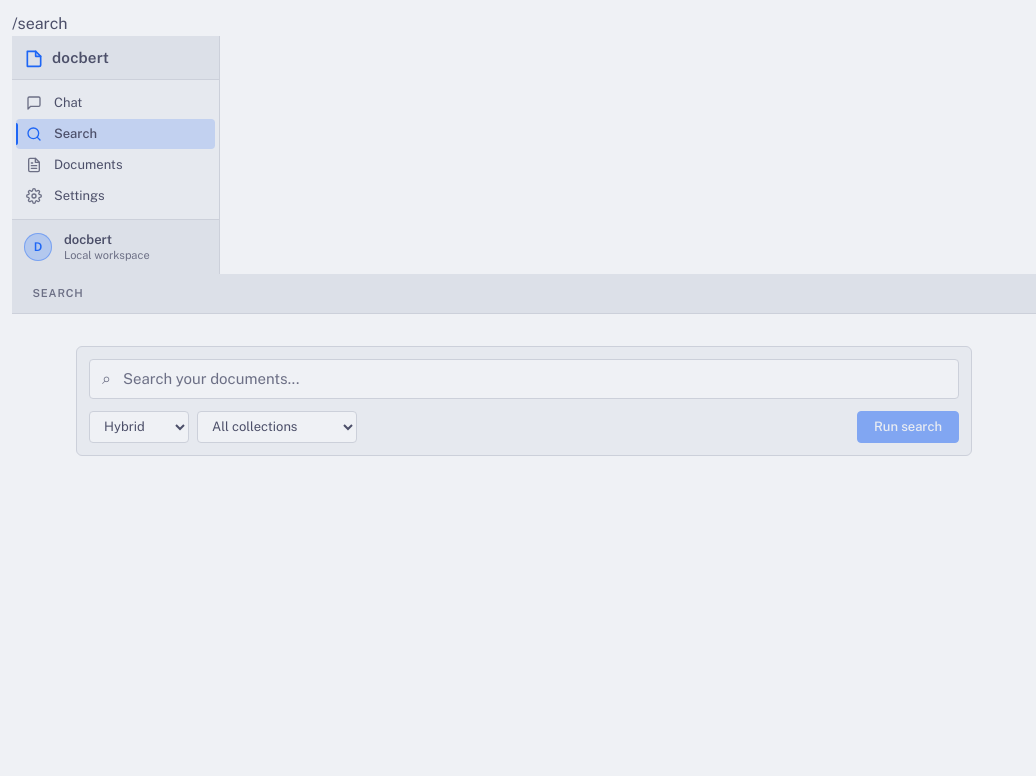
Scenario: Search page › ignores stale older responses when a newer search completes later
Type "rust" into the search field named "Query" at (534, 379), box [123,361,946,397]
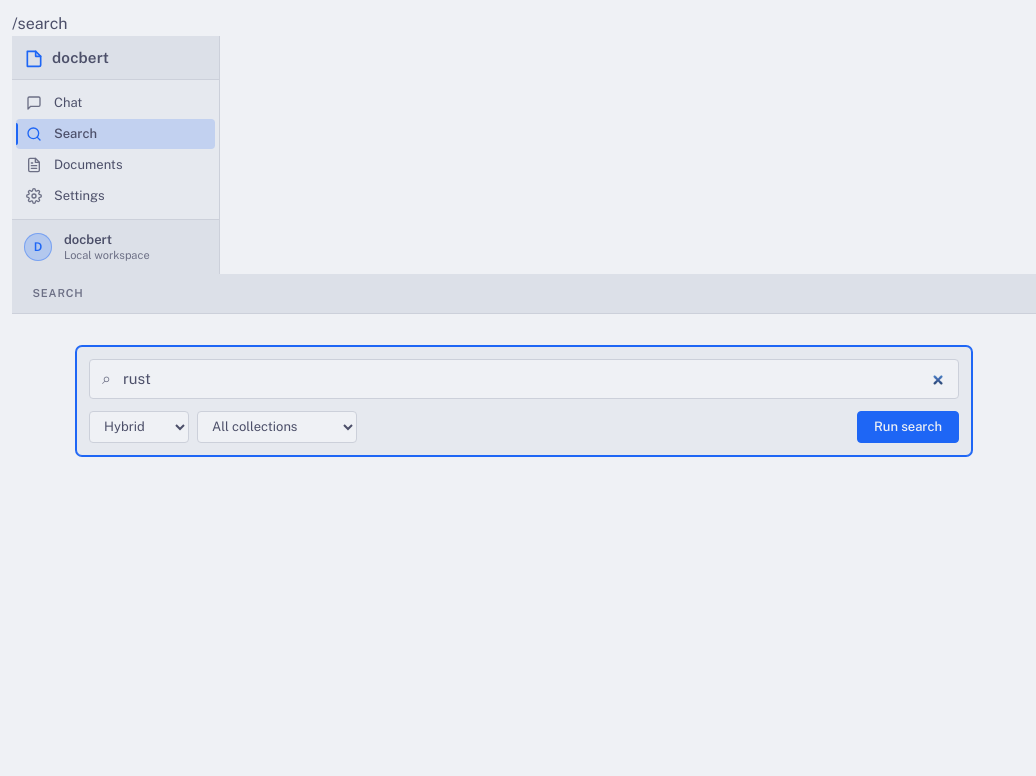
Click the button "Run search" at (908, 427), box [857,411,959,443]
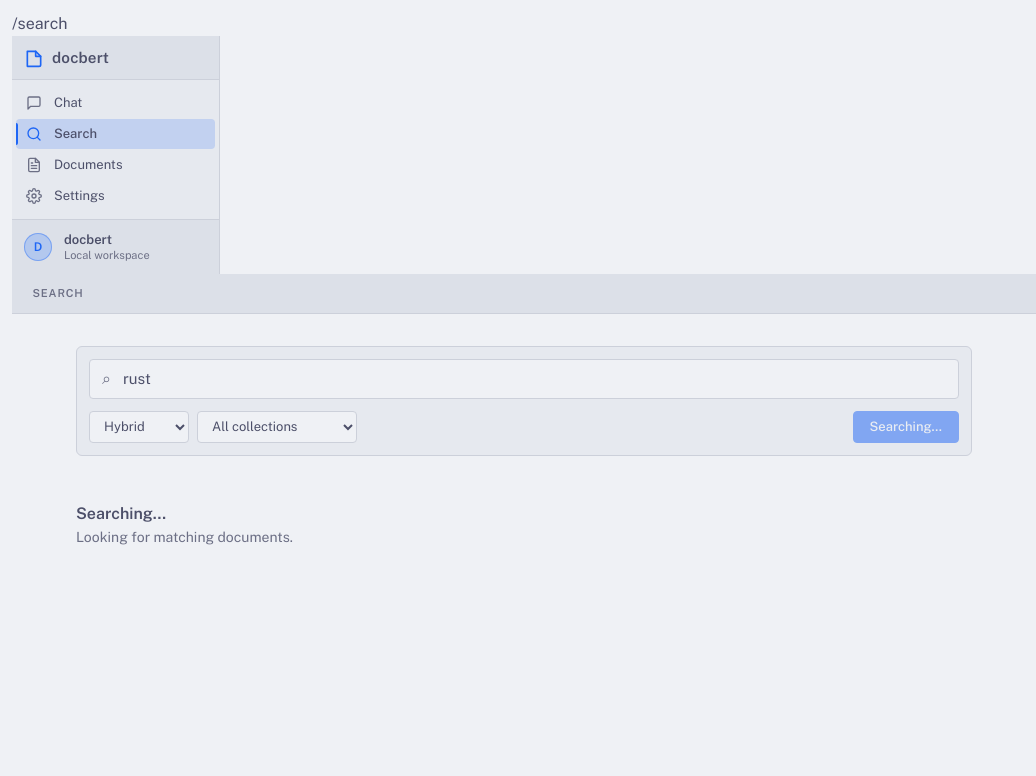
Replace the text in the search field named "Query" with "rust async" at (534, 379), box [123,361,946,397]
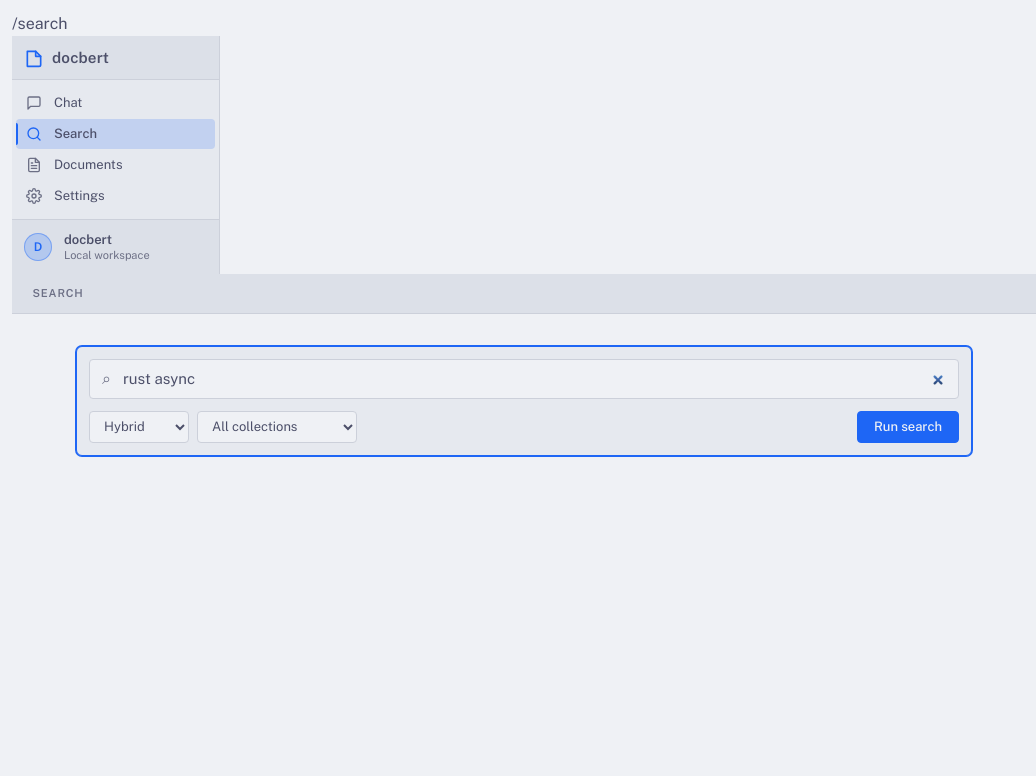
Click the button "Run search" at (908, 427), box [857,411,959,443]
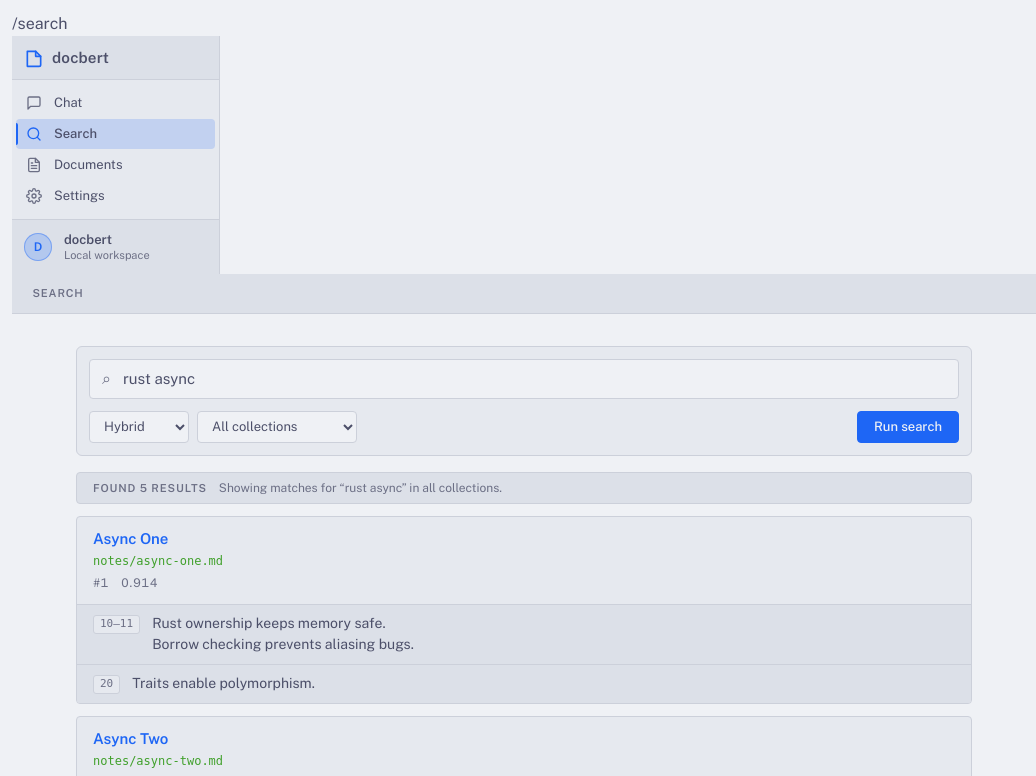
expect the text "Found 5 results" is shown: met, box [93,480,207,496]
